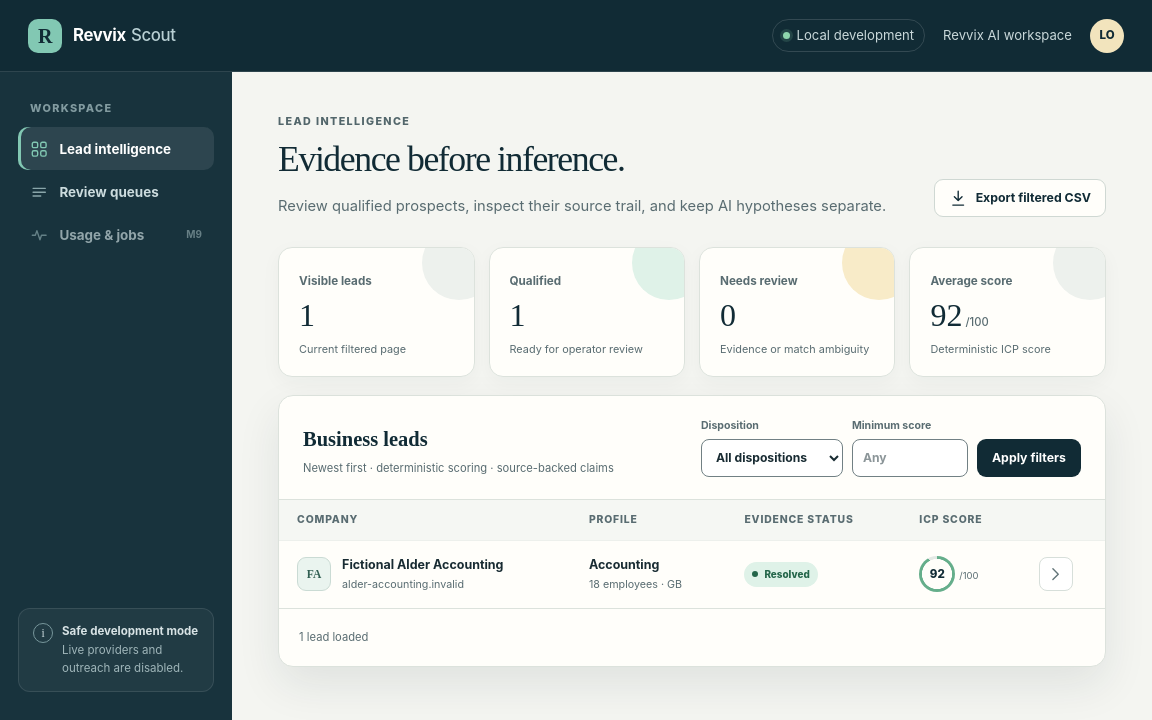
Test: operator dashboard › shows individual evidence and requires a reason before a human decision
The image size is (1152, 720).
Later steps or results of the test are not shown.
Expected: the text "Fictional Alder Accounting" is shown, [342,556,504,574]
Click the button "Review queues" at {"x": 116, "y": 192}, box [18,170,214,213]
(page scrolled)
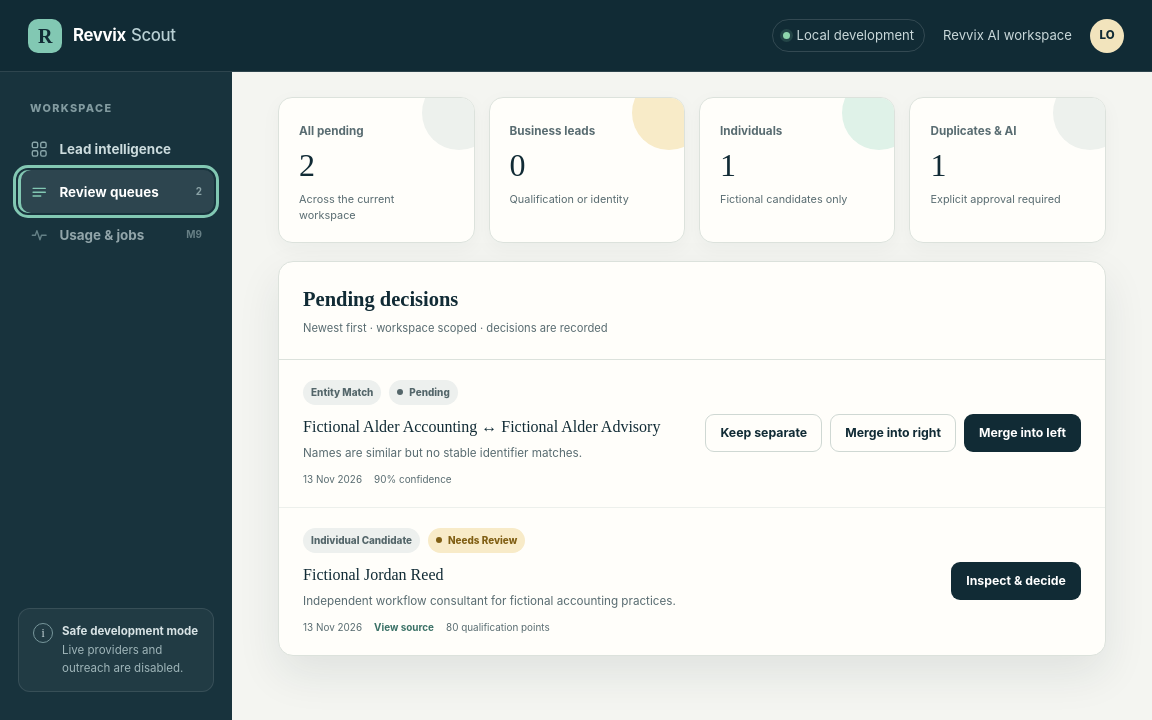
Click the button "Inspect & decide" at {"x": 1016, "y": 581}, box [951,562,1081,600]
(page scrolled)
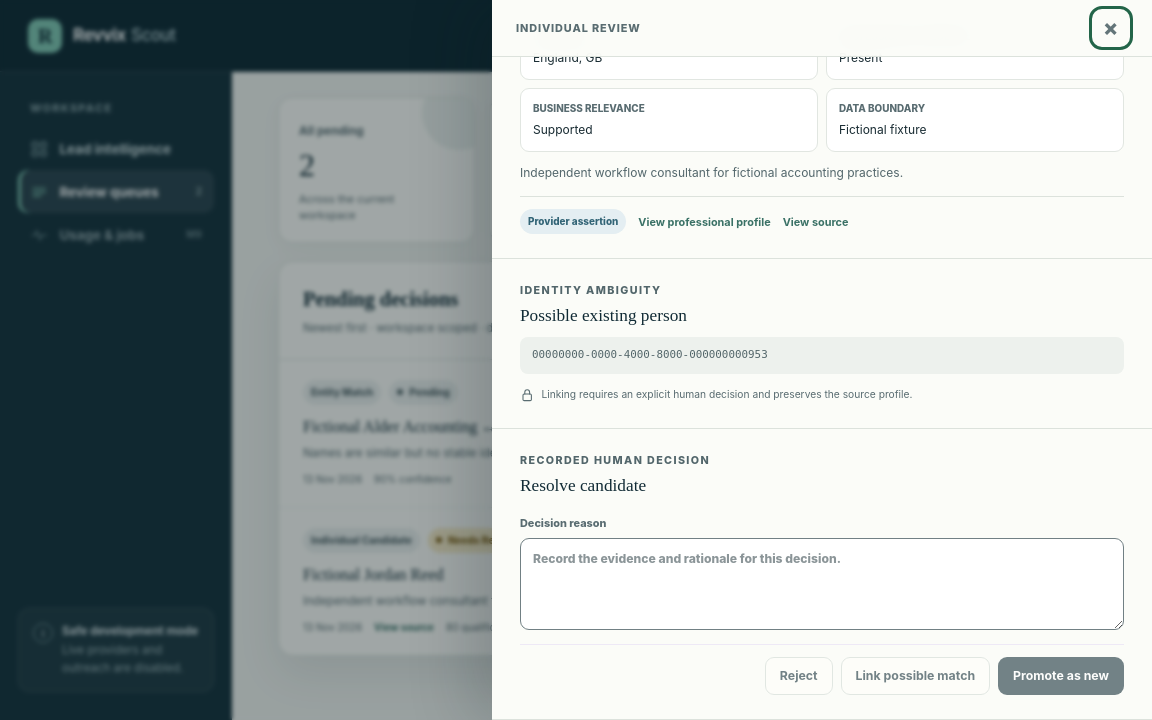
Result: the text "Fictional fixture" is shown at [839,122,926,137]
Result: the button "Link possible match" is disabled at [841,657,990,695]
Type "Profile evidence supports the existing fictional person." into the text box labelled "Decision reason" at {"x": 822, "y": 584}, box [520,538,1124,630]
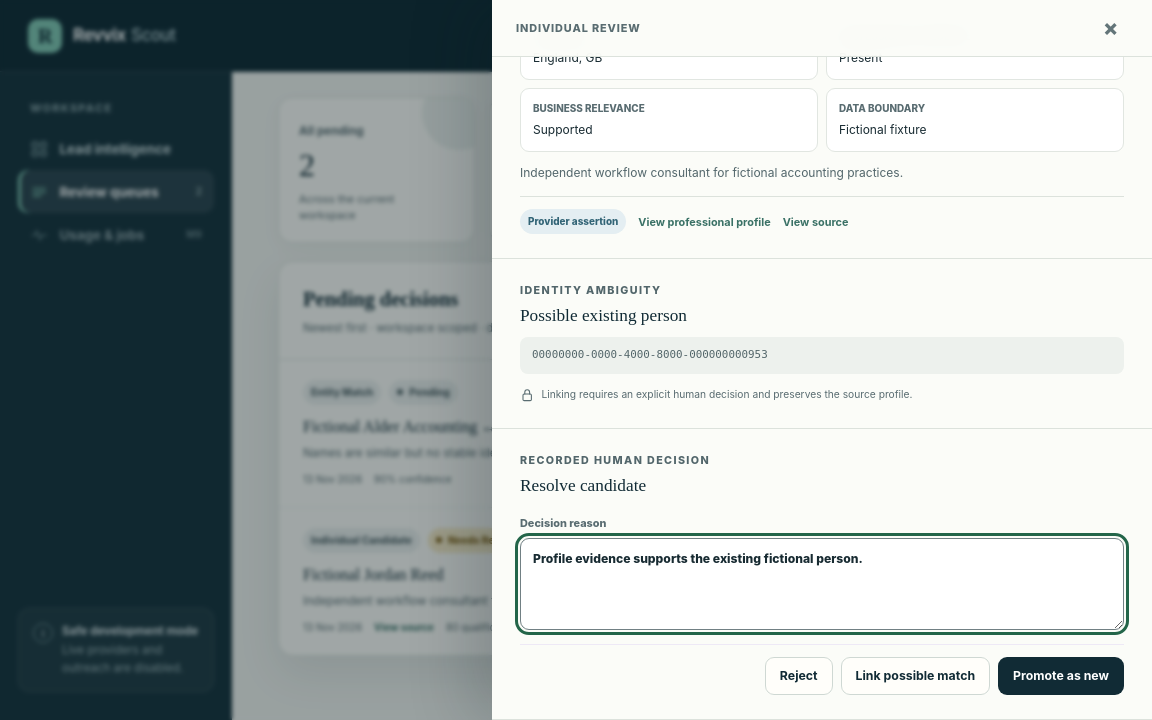
Result: the button "Link possible match" is enabled at [841,657,990,695]
